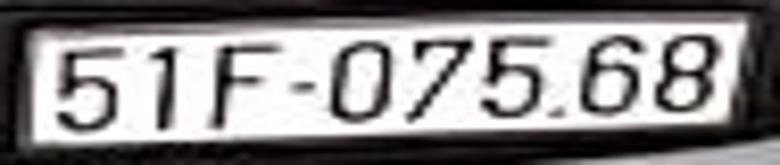-: (287, 78, 314, 100)
.: (550, 96, 569, 125)
0: (328, 38, 393, 126)
1: (146, 45, 179, 137)
5: (49, 47, 129, 144), (484, 36, 550, 121)
6: (577, 32, 642, 125)
7: (406, 36, 471, 130)
8: (658, 30, 718, 119)
F: (209, 40, 281, 133)
